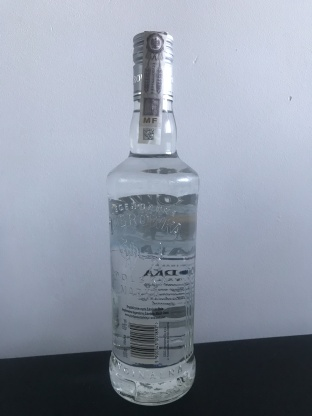nakretka: (130, 27, 176, 106)
